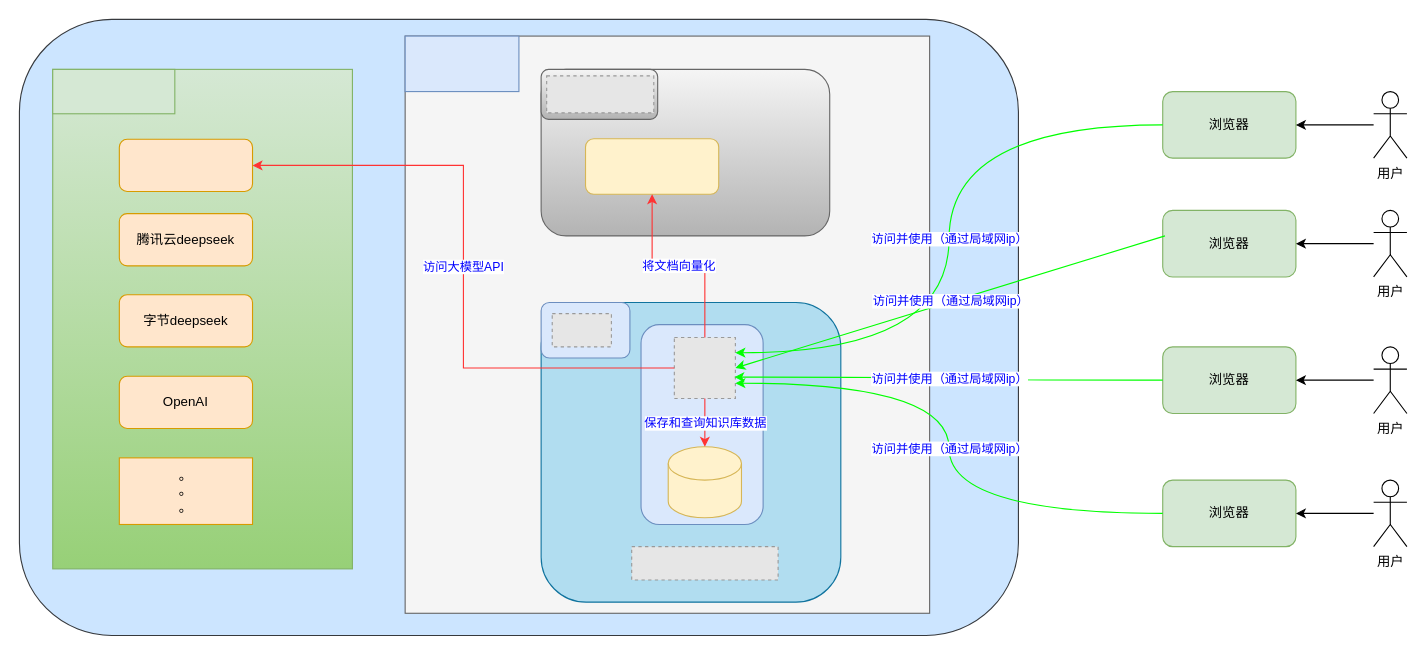
The diagram is 1426 pixels wide and 655 high, and some of its shapes have lost their labels. Grey dashed boxes stand in for pictures. The shapes that lost their labels are listed below. From the top down, each one's centre as x and y in pixels, then its label:
the point at 461,63: 服务主机电脑
the point at 113,91: 外部大模型API
the point at 185,164: 阿里云deepseek
the point at 651,166: BGE-M3嵌入模型
the point at 704,482: Weaviate 向量数据库
